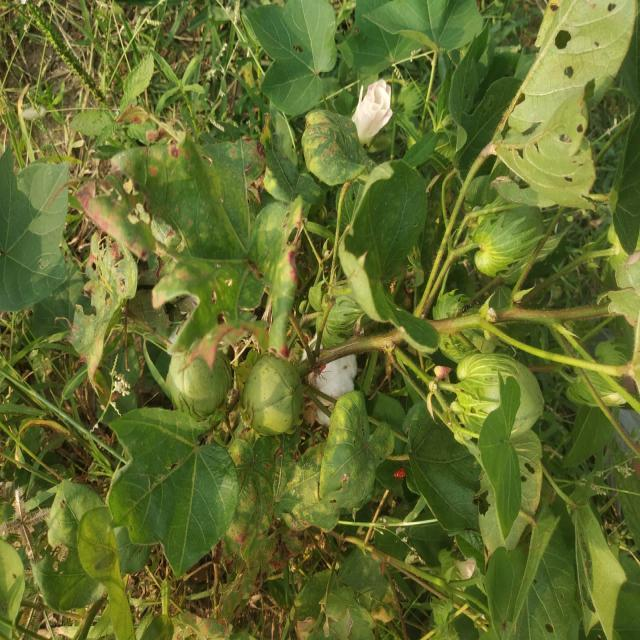Cotton Blossom: (348, 77, 394, 151)
Early Boll: (451, 346, 551, 436), (467, 201, 551, 278), (239, 344, 303, 438), (168, 342, 231, 415)
Matured Cotton Boll: (314, 354, 360, 404)
